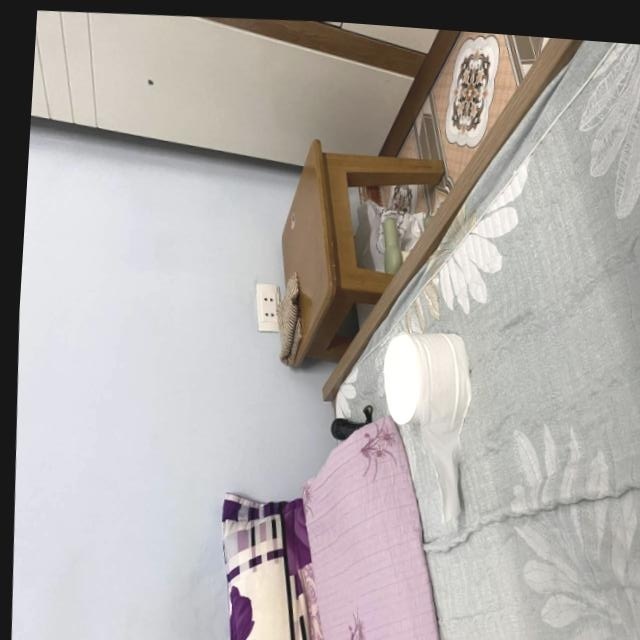outlet: (252, 283, 283, 336)
